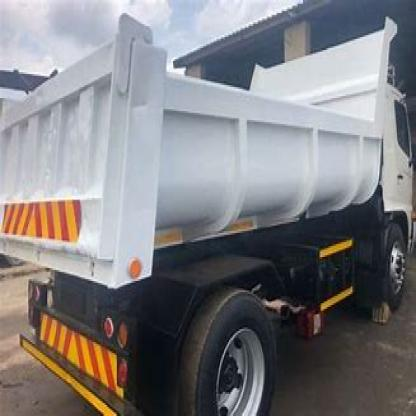dump_truck: (3, 13, 410, 414)
